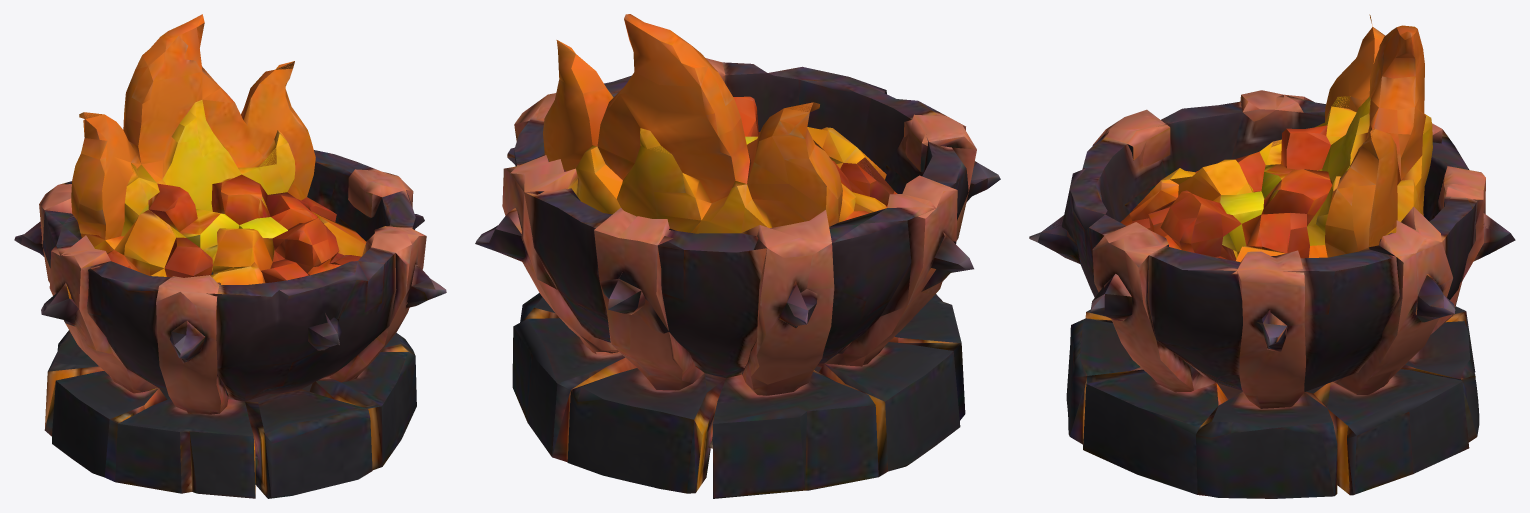
File: volcan_brasero.glb
The picture shows the model from 3 angles, left to right: view 1: azimuth 30°, elevation 25°; view 2: azimuth 150°, elevation 25°; view 3: azimuth 270°, elevation 25°; orthographic projection. The views are drawn at different scales.
Parts seen in each view (by area): view 1: tripo_node_2e609057-cdb2-4e30-9c67-1594012e7c78; view 2: tripo_node_2e609057-cdb2-4e30-9c67-1594012e7c78; view 3: tripo_node_2e609057-cdb2-4e30-9c67-1594012e7c78.
Part boxes in pixels (bbox=[...]): tripo_node_2e609057-cdb2-4e30-9c67-1594012e7c78: bbox=[14, 14, 446, 498]; tripo_node_2e609057-cdb2-4e30-9c67-1594012e7c78: bbox=[475, 14, 1000, 498]; tripo_node_2e609057-cdb2-4e30-9c67-1594012e7c78: bbox=[1029, 14, 1515, 498].
Bounding box in the file's own units: 0.9866 × 0.8822 × 0.9642.
Materials: 1 (1 with a texture image).
